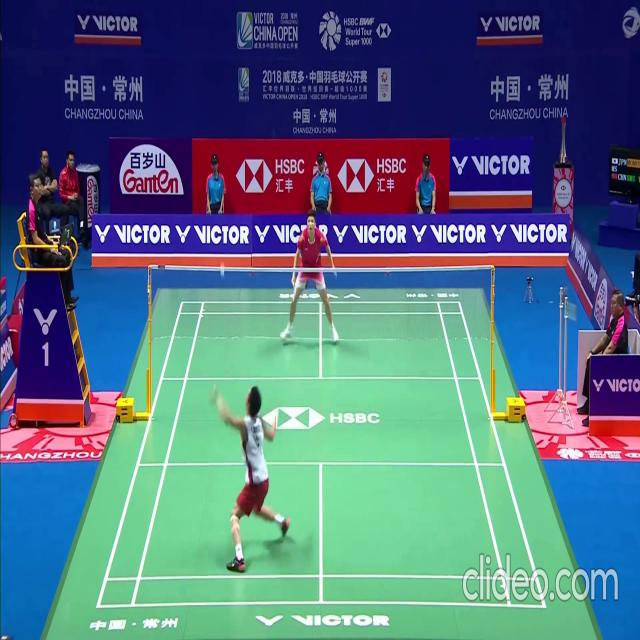Shuttlecock: (220, 264, 225, 272)
